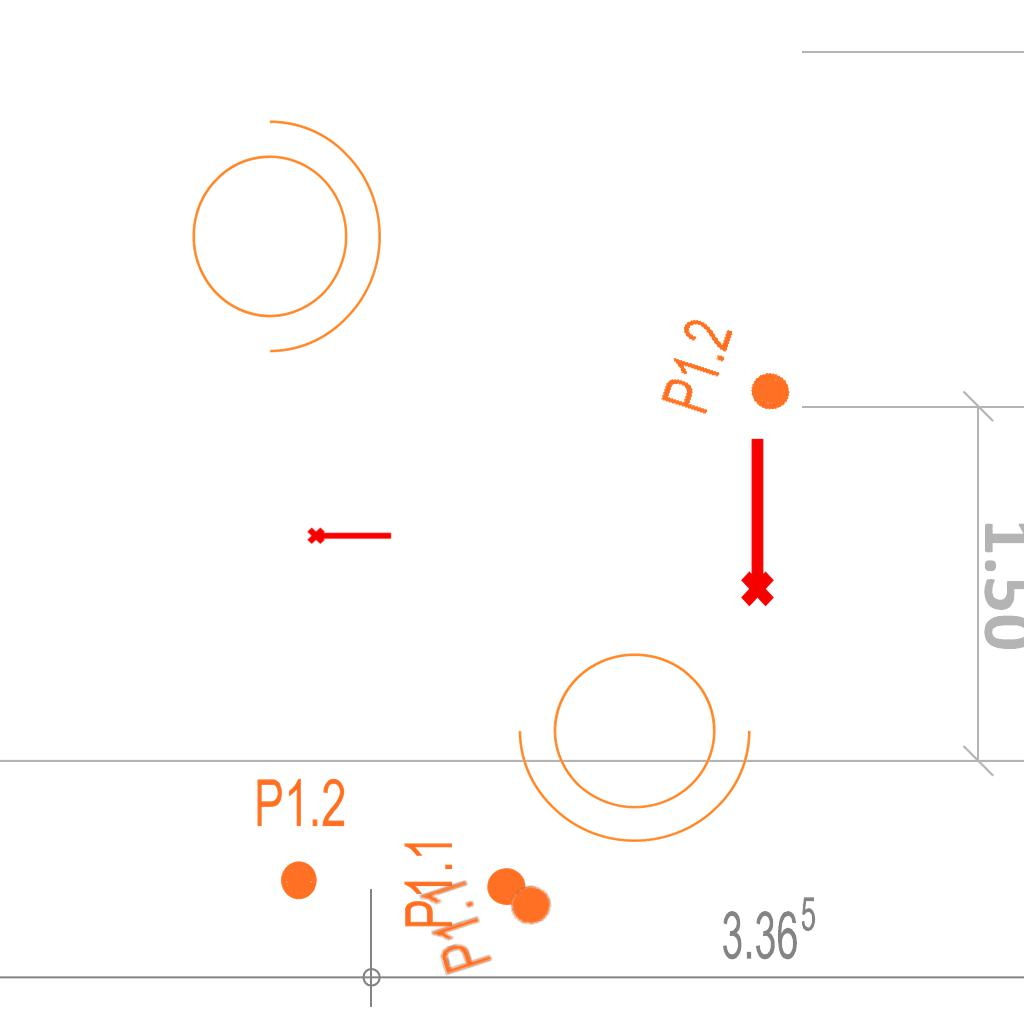ASR_Ansaugoeffnung: (732, 433, 778, 609), (306, 523, 394, 546)
Downlight_LED_Einbauleuchten_Flur: (656, 312, 807, 442), (415, 850, 566, 980), (401, 837, 529, 930), (254, 775, 347, 903)
Scheinwerfer_fuer_Alarmbeleuchtung: (509, 628, 773, 853), (167, 98, 392, 362)
